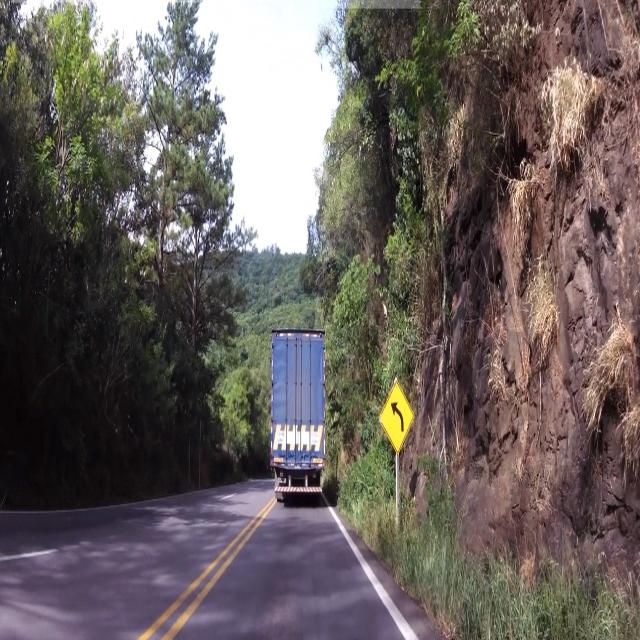A-2a: (376, 377, 415, 459)
